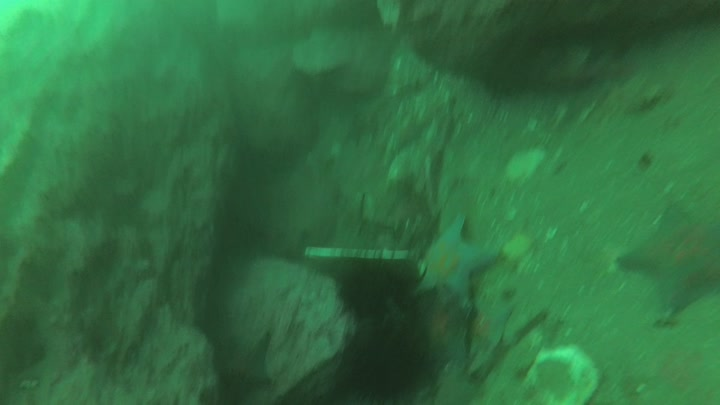echinus: (340, 329, 440, 405), (340, 263, 405, 322)
starfish: (620, 202, 720, 324), (409, 216, 494, 307), (418, 310, 466, 370), (468, 308, 513, 356)
